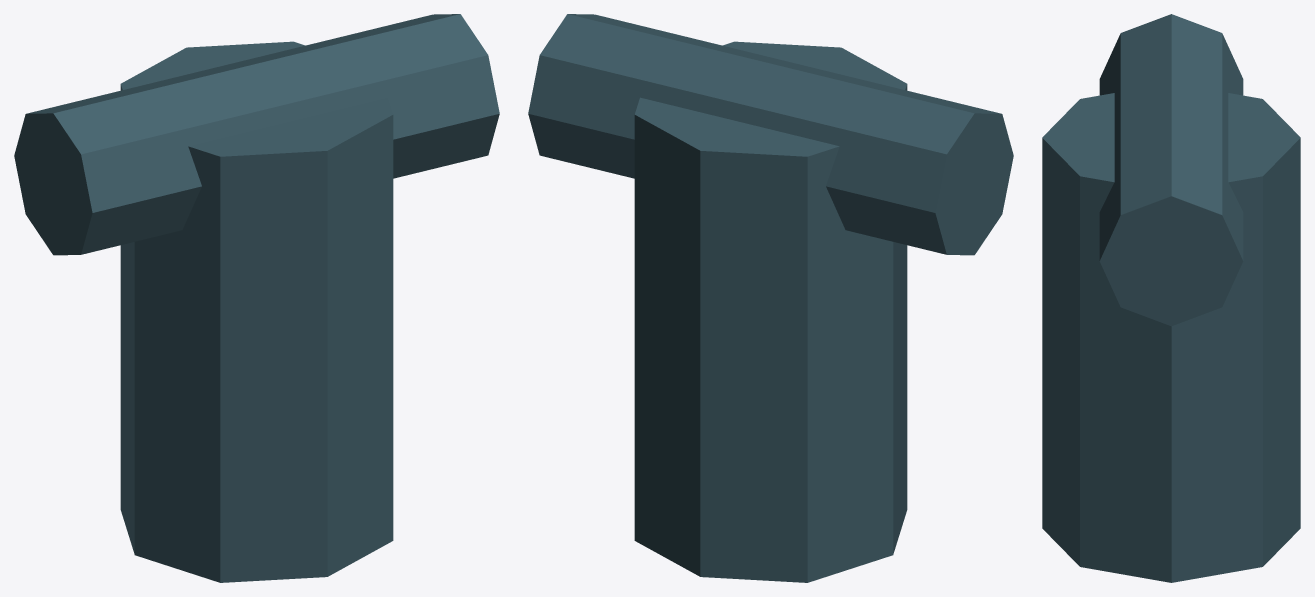
File: dockBollard.obj
3 renders of one model, left to right at view 1: azimuth 30°, elevation 25°; view 2: azimuth 150°, elevation 25°; view 3: azimuth 270°, elevation 25°, orthographic. The views are drawn at different scales.
Visible parts, largest first — view 1: dockBollard; view 2: dockBollard; view 3: dockBollard.
Boxes of the visible parts, x1,y1,x2,y2 form: dockBollard: (14,14,499,582); dockBollard: (528,14,1013,582); dockBollard: (1042,14,1300,582).
Size of the model in its own units: 0.6 by 0.65 by 0.36.
